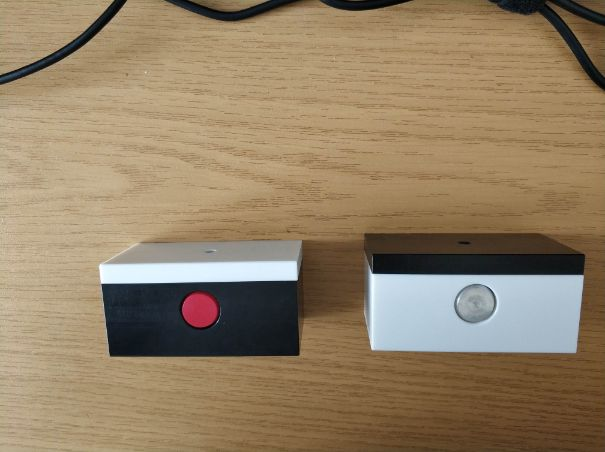black+white+silver: (359, 229, 587, 358)
white+black+red: (96, 239, 313, 359)
